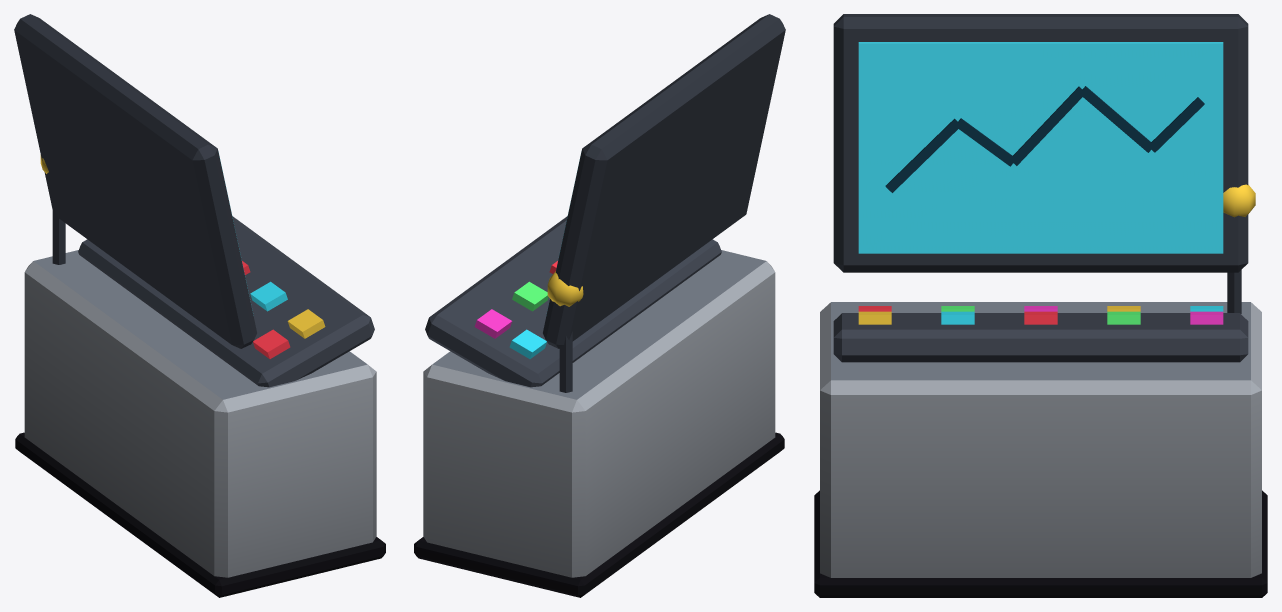
File: lab_console.glb
3 renders of one model, left to right at view 1: azimuth 30°, elevation 25°; view 2: azimuth 150°, elevation 25°; view 3: azimuth 270°, elevation 25°, orthographic. The views are drawn at different scales.
Visible parts, largest first — view 1: Body, Glow; view 2: Body, Glow; view 3: Body, Glow.
Boxes of the visible parts, x1,y1,x2,y2 form: Body: [14, 14, 385, 597]; Glow: [40, 154, 325, 358]; Body: [414, 14, 785, 597]; Glow: [474, 154, 583, 358]; Body: [814, 14, 1267, 597]; Glow: [858, 42, 1255, 324].
Bounding box in the file's own units: 0.845 × 1.97 × 1.64.
